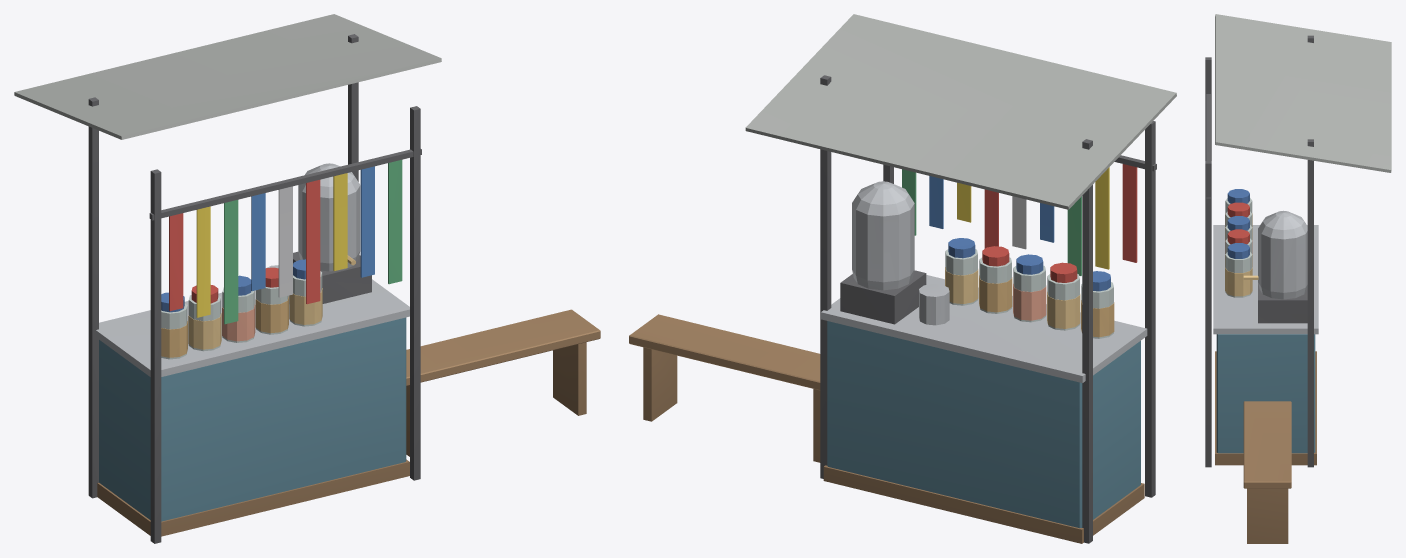
File: tea_stall.glb
3 renders of one model, left to right at view 1: azimuth 30°, elevation 25°; view 2: azimuth 150°, elevation 25°; view 3: azimuth 270°, elevation 25°, orthographic. The views are drawn at different scales.
Visible parts, largest first — view 1: tea_stall; view 2: tea_stall; view 3: tea_stall.
Boxes of the visible parts, left/top/right/bottom form: tea_stall: left=14, top=14, right=600, bottom=543; tea_stall: left=629, top=14, right=1176, bottom=543; tea_stall: left=1205, top=14, right=1391, bottom=543.
Size of the model in its own units: 2.95 by 2.32 by 1.17.
